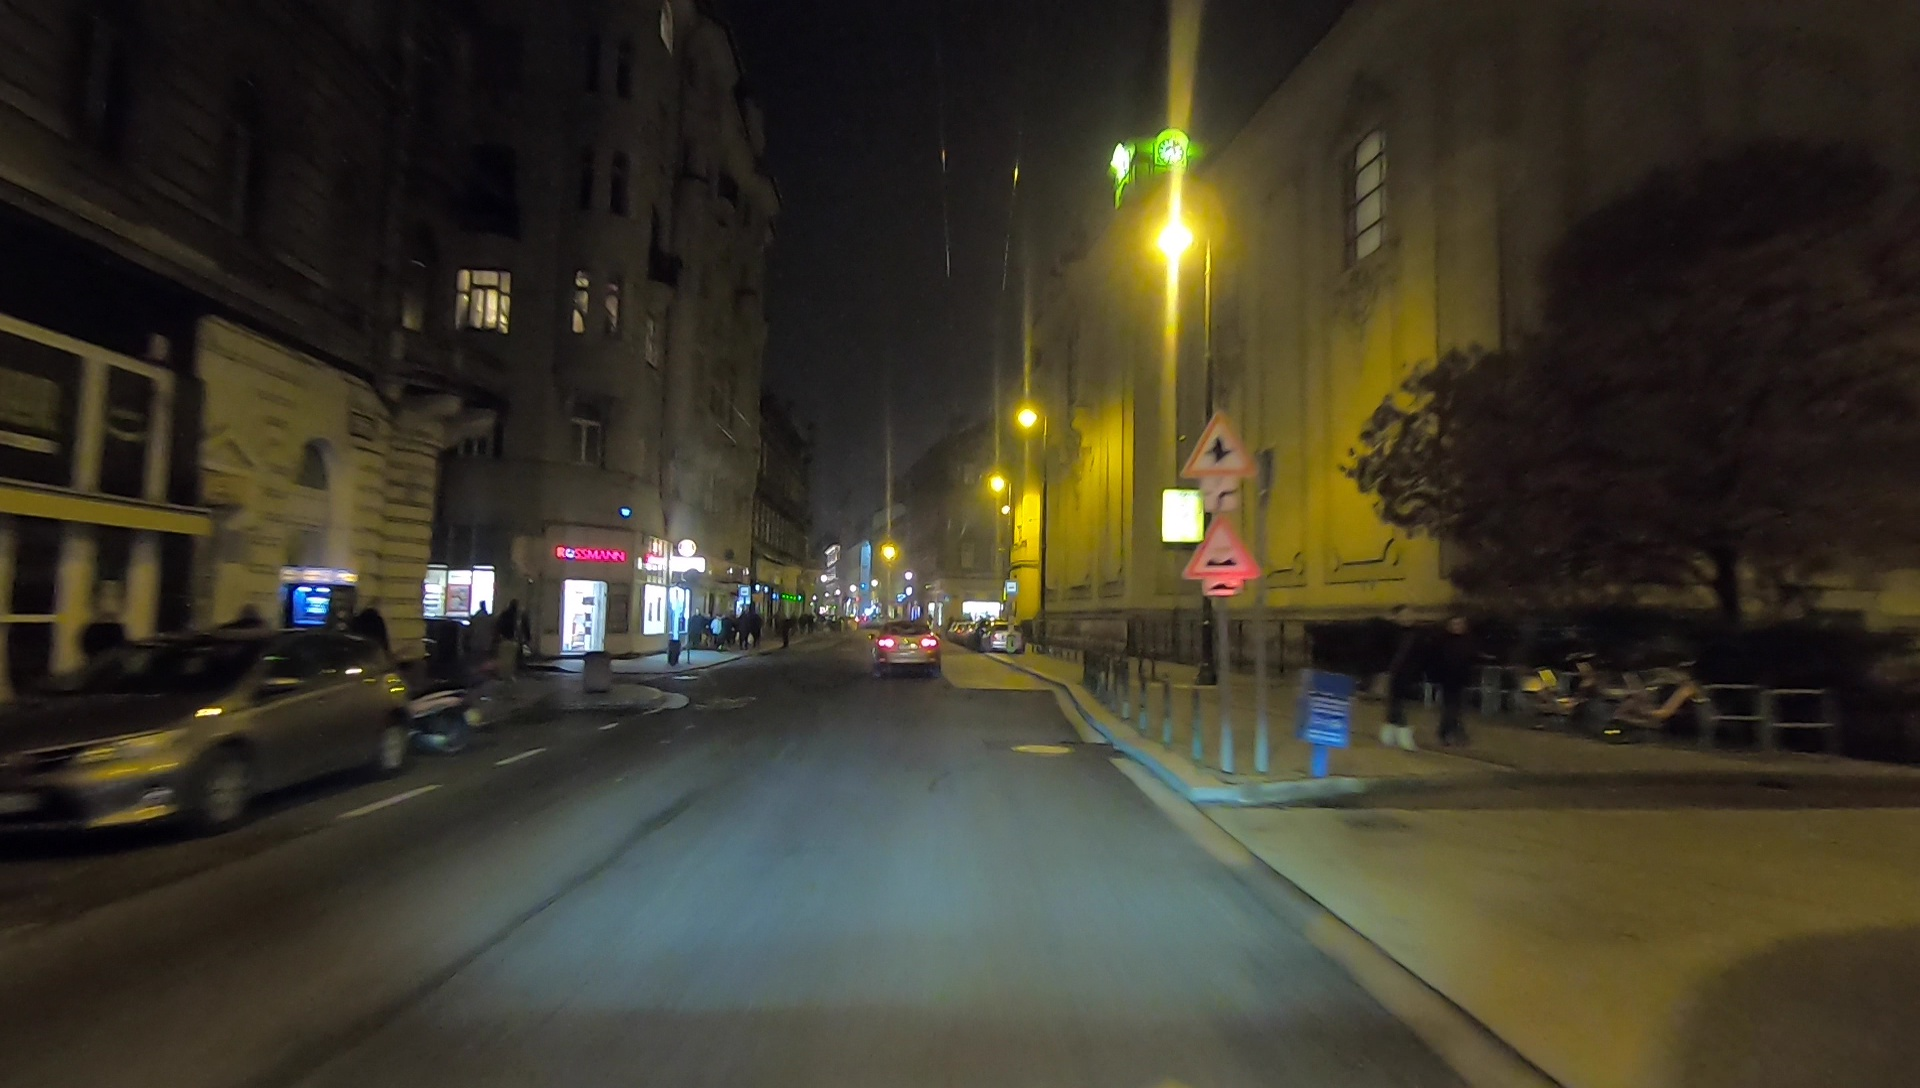person: (1382, 608, 1419, 754), (1438, 610, 1473, 747), (356, 600, 389, 684), (503, 602, 529, 680), (469, 606, 494, 687), (732, 606, 749, 651), (688, 608, 704, 650), (750, 609, 763, 649), (708, 610, 719, 649), (779, 615, 790, 646)
